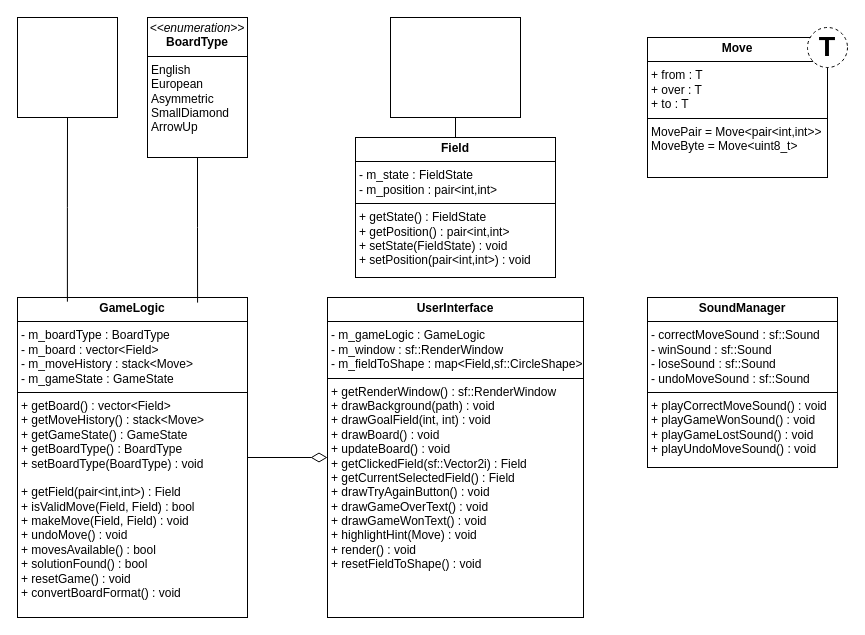
The diagram is 865 pixels wide and 635 high, and some of its shapes have lost their labels. Each missing label, with the centre of its shape:
<<enumeration>> FieldState Empty Occupied Selected: the point at 455,67
<<enumeration>> GameState Playing GameWon GameLost: the point at 67,67
